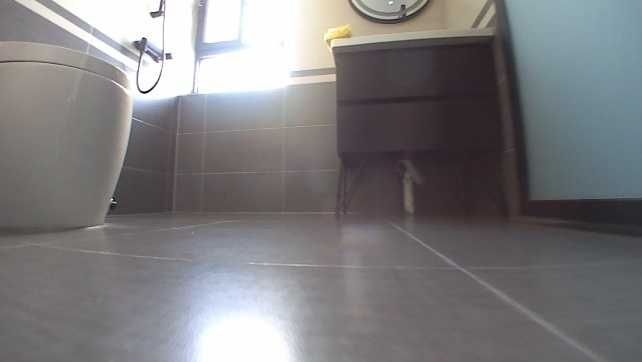toilet: (0, 33, 139, 234)
washstand: (321, 25, 519, 219)
